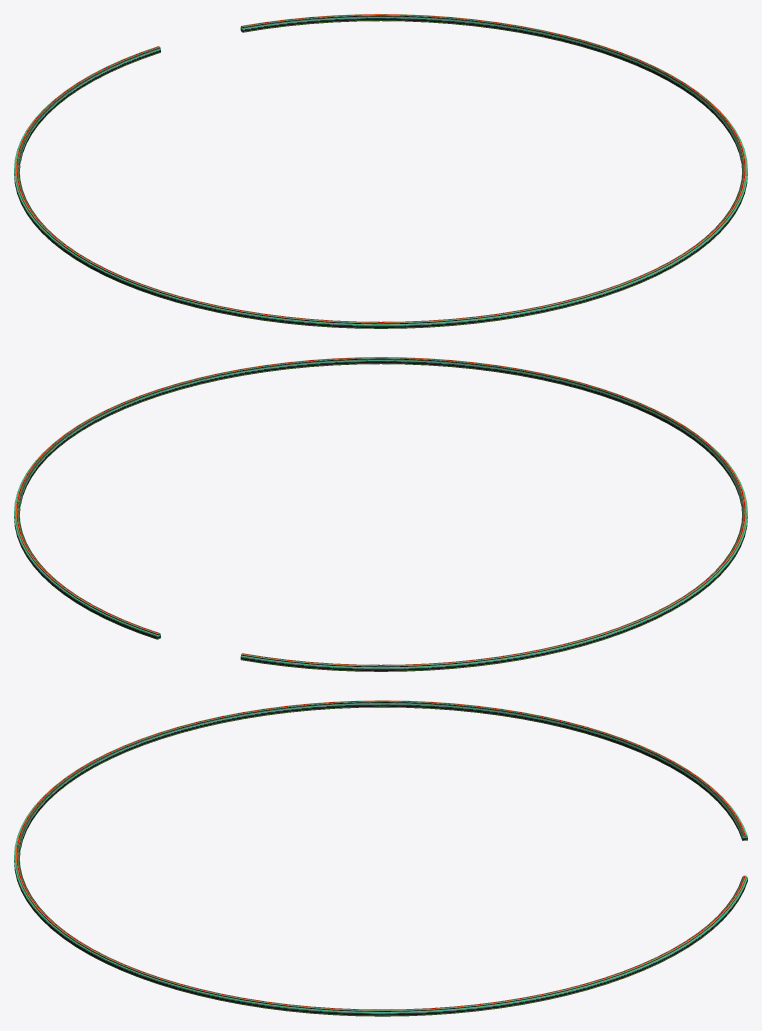
File: SM_MP_Flow_DomeFooting.fbx
The picture shows the model from 3 angles, top to bottom: view 1: azimuth 30°, elevation 25°; view 2: azimuth 150°, elevation 25°; view 3: azimuth 270°, elevation 25°; orthographic projection.
Visible parts, largest first — view 1: SM_MP_Flow_DomeFooting; view 2: SM_MP_Flow_DomeFooting; view 3: SM_MP_Flow_DomeFooting.
Part boxes in pixels (x1,y1,x2,y2): SM_MP_Flow_DomeFooting: (14, 14, 747, 328); SM_MP_Flow_DomeFooting: (14, 357, 747, 671); SM_MP_Flow_DomeFooting: (14, 700, 747, 1016).
Size of the model in its own units: 3832 by 3815 by 31.
1 material, 1 textured.
